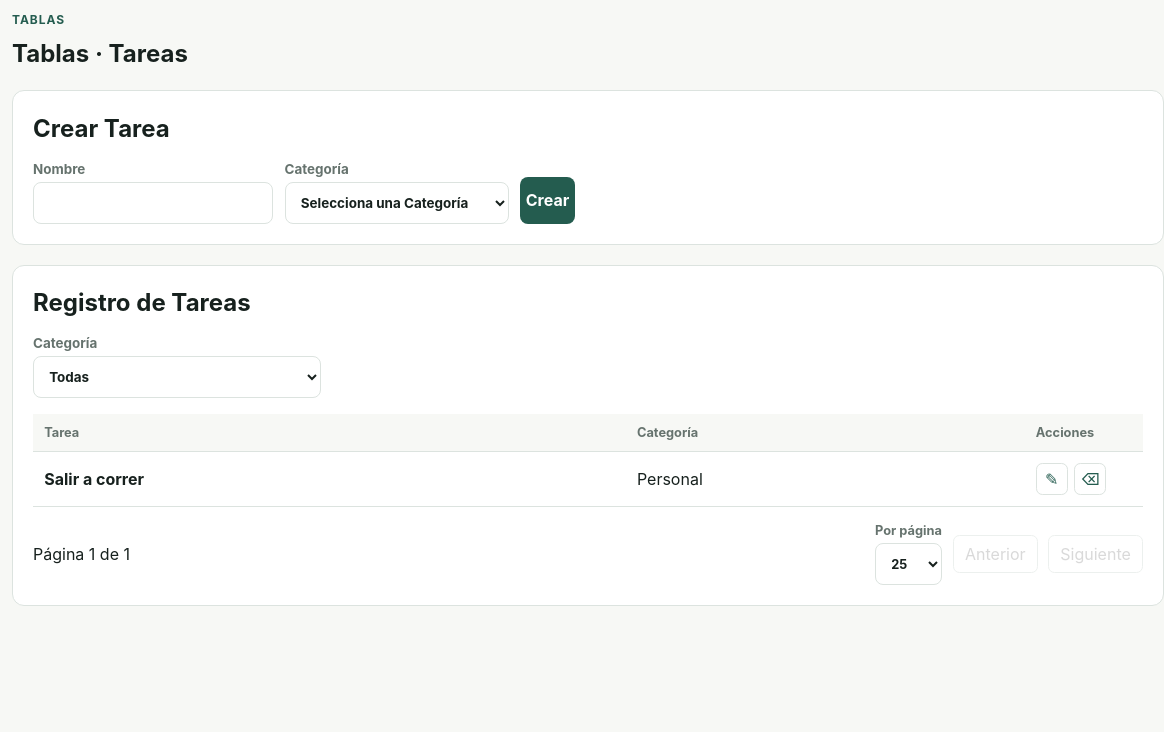
Scenario: MasterTasksTablePage › handles immutable 409 without keeping stale edit state
The image size is (1164, 732).
Click the button named "Editar Tarea Salir a correr".
click(1052, 479)  # box [1036, 463, 1068, 495]
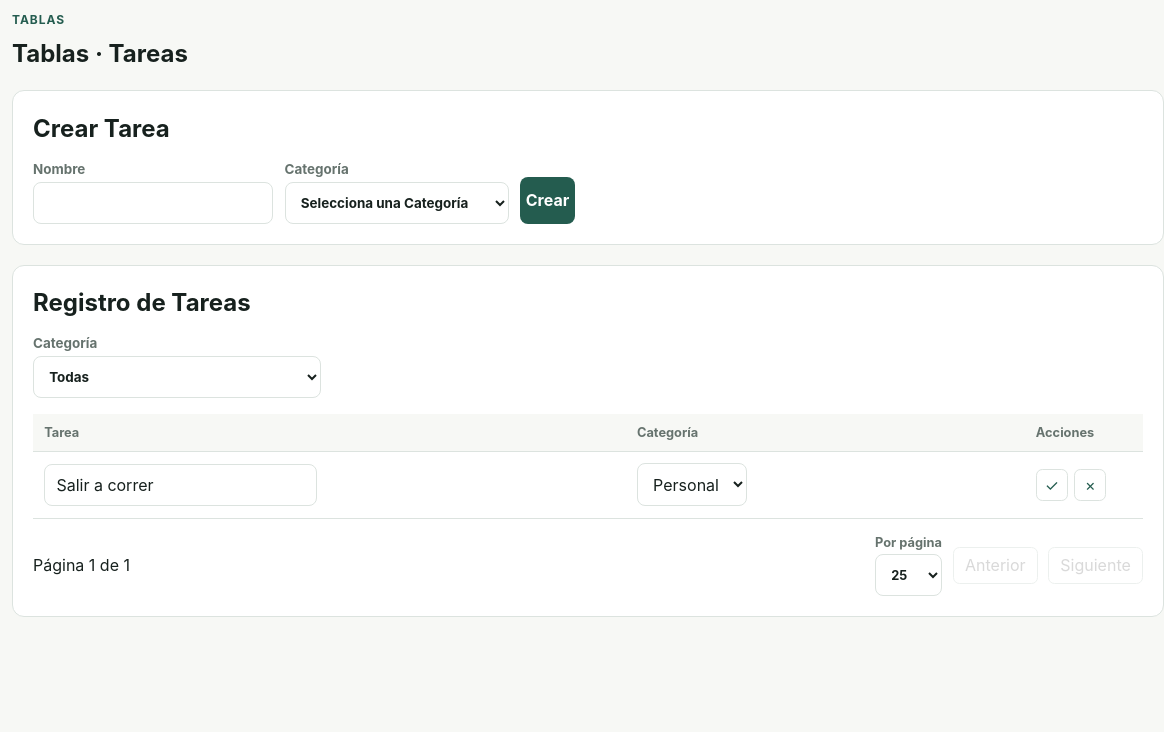
Click the button named "Guardar Tarea Salir a correr".
click(1052, 485)  # box [1036, 469, 1068, 501]
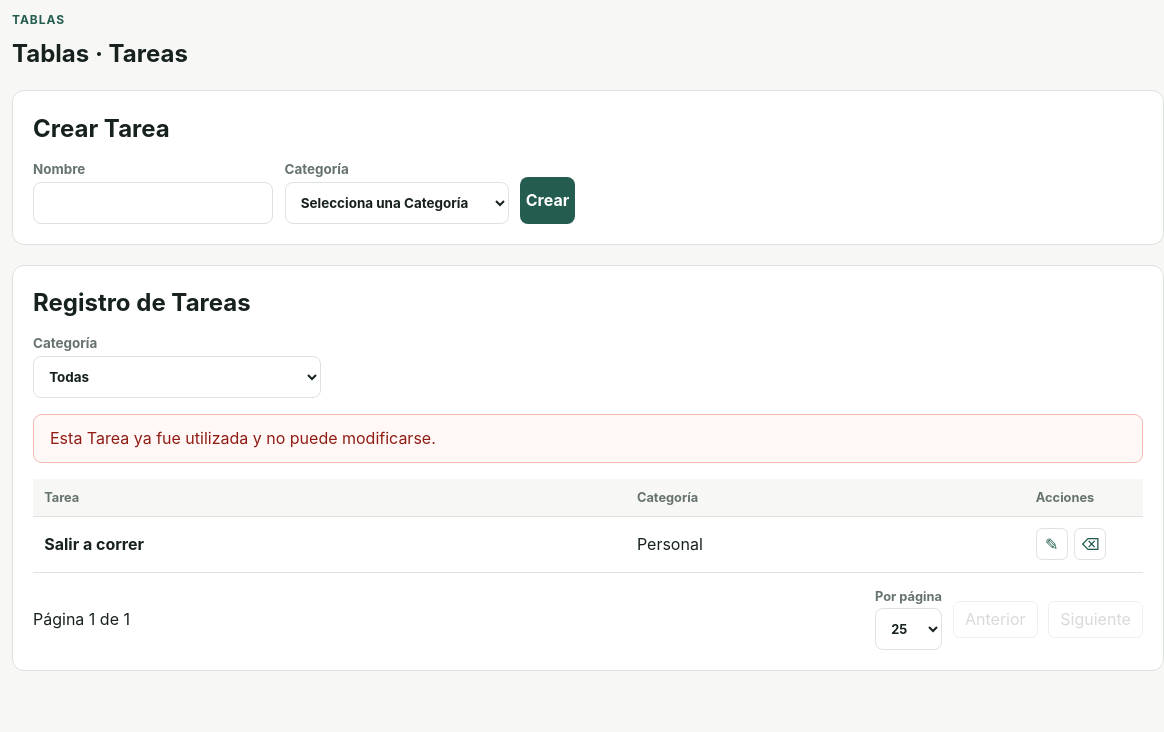
Expected: the field labelled "Nombre de Tarea Salir a correr" is not shown
Now the message shows "ya fue utilizada", box [50, 428, 436, 448]
